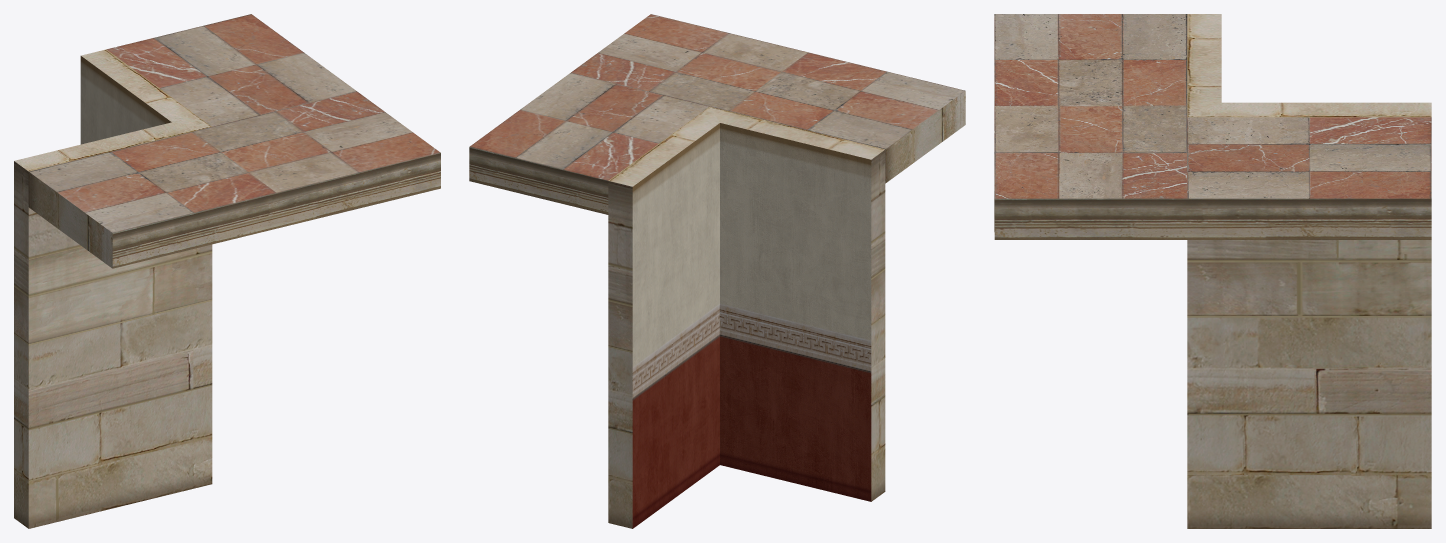
Rendered from svspartawall7.dae.
The picture shows the model from 3 angles, left to right: view 1: azimuth 30°, elevation 25°; view 2: azimuth 150°, elevation 25°; view 3: azimuth 270°, elevation 25°; orthographic projection. The views are drawn at different scales.
Parts seen in each view (by area): view 1: unnamed_object6_copy43-0; view 2: unnamed_object6_copy43-0; view 3: unnamed_object6_copy43-0.
Part boxes in pixels (x1=…): unnamed_object6_copy43-0: x1=14, y1=14, x2=440, y2=528; unnamed_object6_copy43-0: x1=469, y1=14, x2=965, y2=528; unnamed_object6_copy43-0: x1=994, y1=14, x2=1431, y2=528.
Size of the model in its own units: 289 by 300 by 289.
